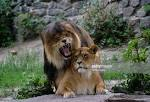lion: (38, 21, 81, 84), (60, 47, 105, 96)
